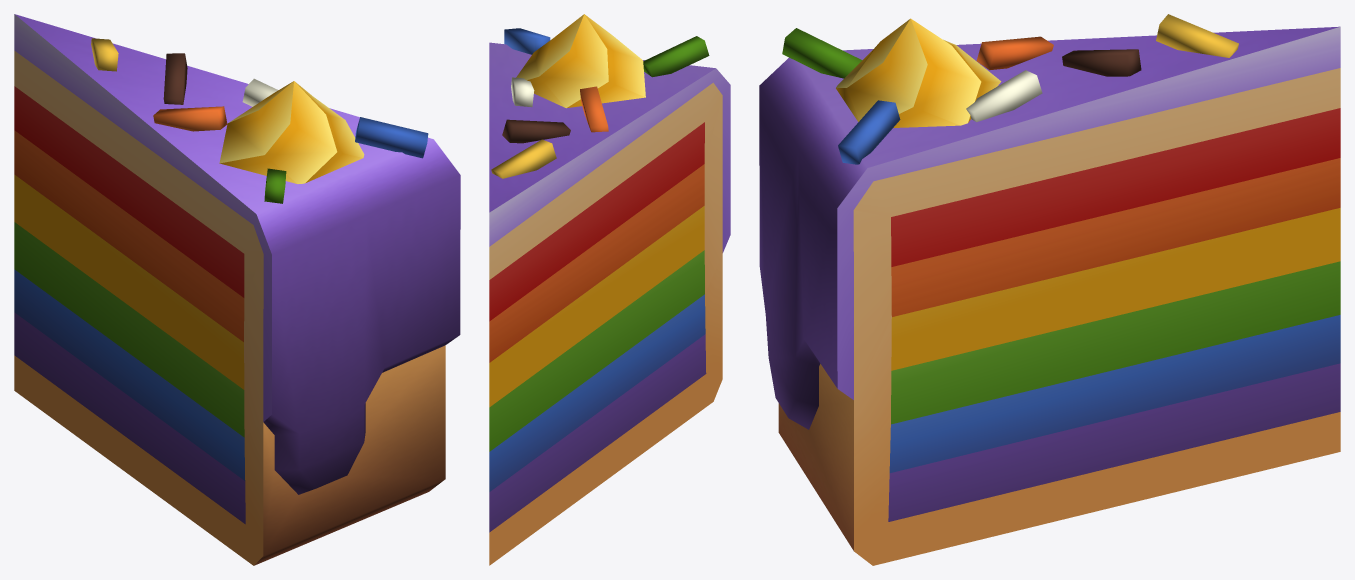
Rendered from m_RainbowCake02_Slice02.fbx.
3 views of the same model, side by side, from view 1: azimuth 30°, elevation 25°; view 2: azimuth 150°, elevation 25°; view 3: azimuth 270°, elevation 25° (orthographic). The views are drawn at different scales.
Visible parts, largest first — view 1: m_RainbowCake02_Slice02; view 2: m_RainbowCake02_Slice02; view 3: m_RainbowCake02_Slice02.
Boxes of the visible parts, x1,y1,x2,y2 form: m_RainbowCake02_Slice02: (14, 14, 460, 565); m_RainbowCake02_Slice02: (489, 14, 730, 565); m_RainbowCake02_Slice02: (759, 14, 1340, 565).
Bounding box in the file's own units: 7.24 × 13.27 × 14.48.
